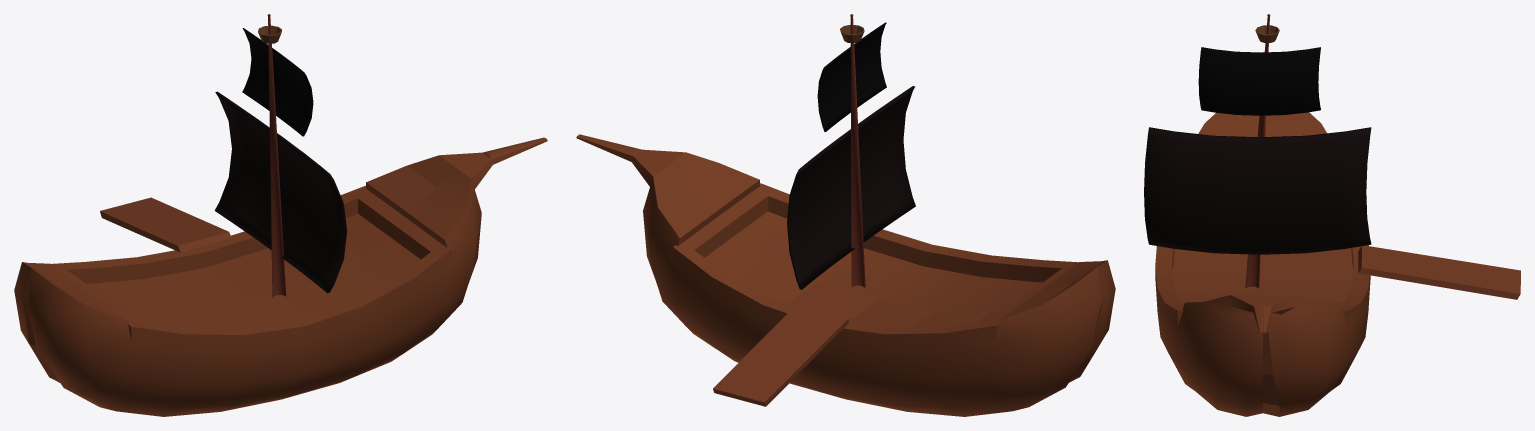
Rendered from Shiptest.fbx.
The picture shows the model from 3 angles, left to right: view 1: azimuth 30°, elevation 25°; view 2: azimuth 150°, elevation 25°; view 3: azimuth 270°, elevation 25°; orthographic projection. The views are drawn at different scales.
Visible parts, largest first — view 1: Cube, Plane; view 2: Cube, Plane; view 3: Cube, Plane.
Boxes of the visible parts, left/top/right/bottom form: Cube: left=14, top=137, right=547, bottom=416; Plane: left=214, top=14, right=347, bottom=298; Cube: left=576, top=134, right=1115, bottom=416; Plane: left=787, top=14, right=915, bottom=289; Cube: left=1155, top=112, right=1520, bottom=416; Plane: left=1144, top=14, right=1371, bottom=288.
Size of the model in its own units: 2085 by 1387 by 1327.
